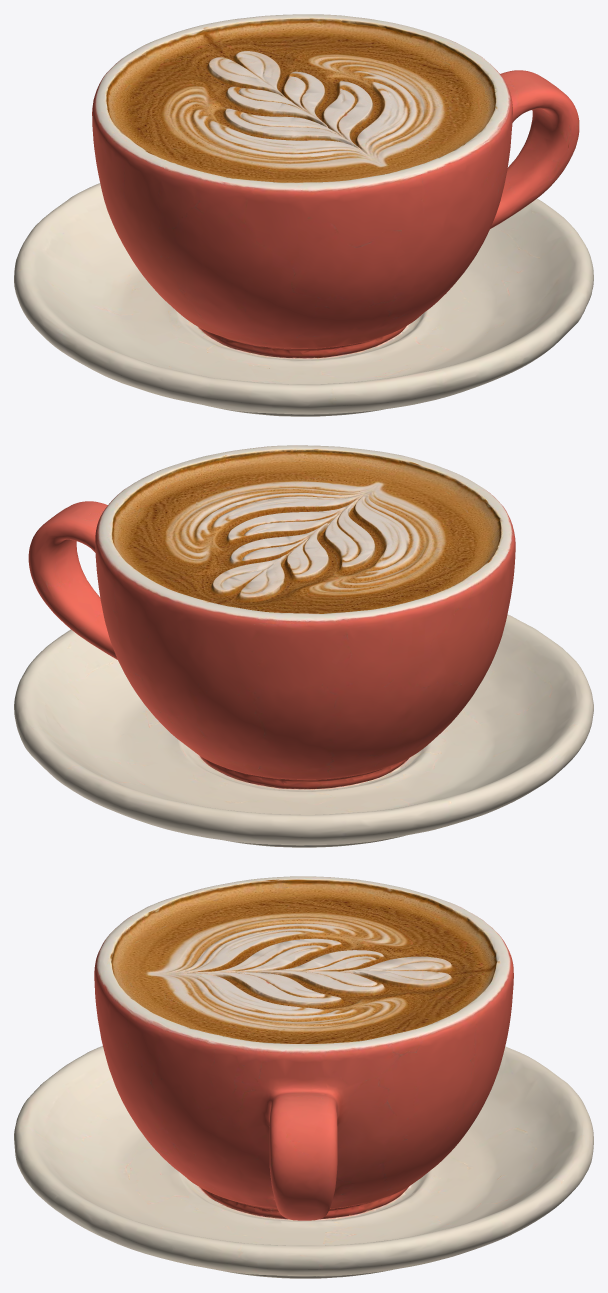
Rendered from daybreak-cup.glb.
The picture shows the model from 3 angles, top to bottom: view 1: azimuth 30°, elevation 25°; view 2: azimuth 150°, elevation 25°; view 3: azimuth 270°, elevation 25°; orthographic projection.
Size of the model in its own units: 1.9 by 0.8556 by 1.86.
Materials: 1 (1 with a texture image).
